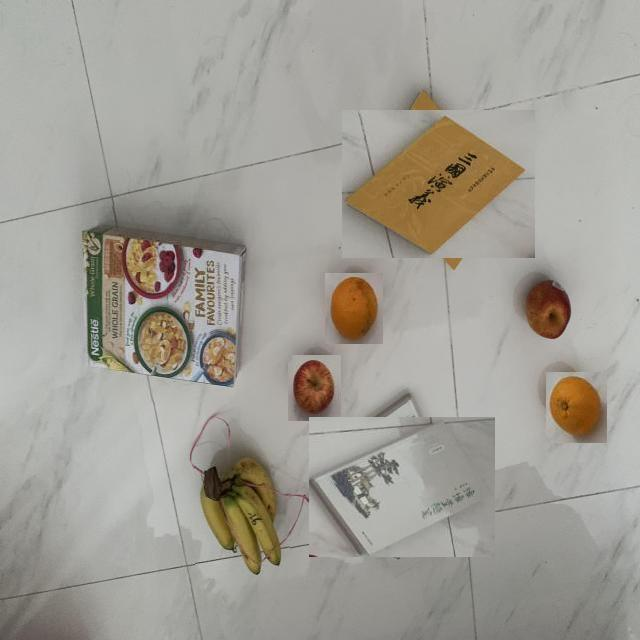Apple: (517, 266, 580, 345), (287, 354, 341, 421)
Banana: (195, 451, 290, 583)
Book: (343, 110, 535, 258), (310, 416, 495, 557)
Cerealbox: (75, 207, 251, 401)
Orange: (546, 371, 607, 443), (325, 272, 383, 344)
